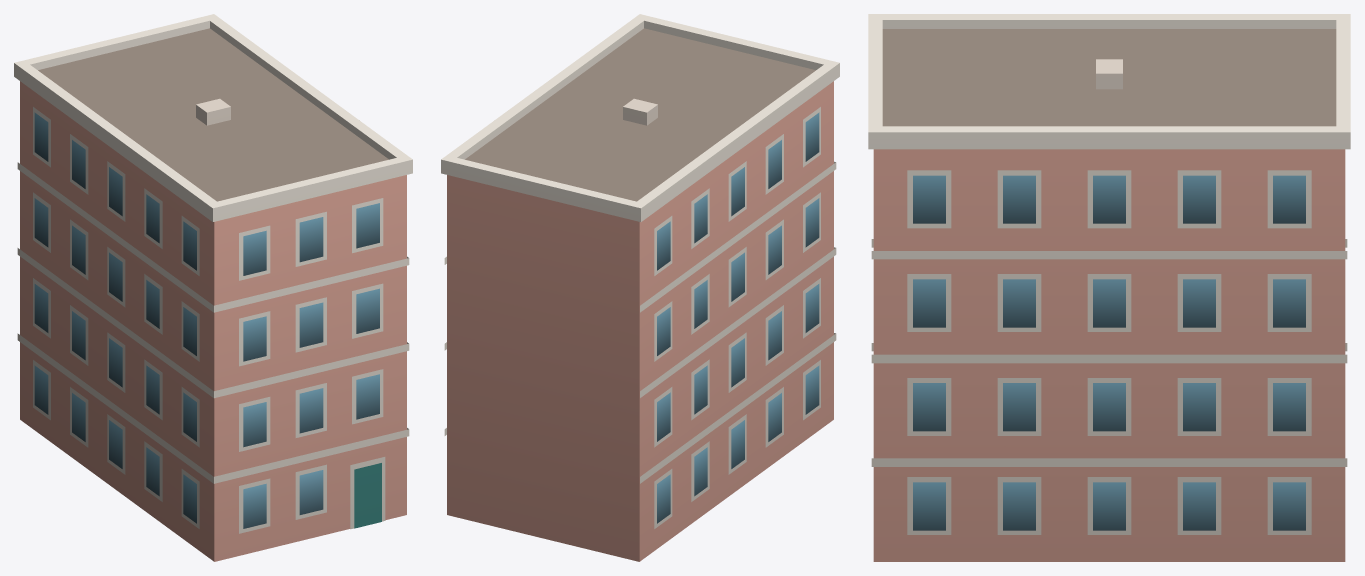
The model's file is boylston_s11_far.glb.
3 views of the same model, side by side, from view 1: azimuth 30°, elevation 25°; view 2: azimuth 150°, elevation 25°; view 3: azimuth 270°, elevation 25° (orthographic). The views are drawn at different scales.
Visible parts, largest first — view 1: boylston_s11_far; view 2: boylston_s11_far; view 3: boylston_s11_far.
Boxes of the visible parts, x1,y1,x2,y2 form: boylston_s11_far: [14, 14, 412, 561]; boylston_s11_far: [441, 14, 839, 561]; boylston_s11_far: [868, 14, 1350, 561].
Bounding box in the file's own units: 8.32 × 14.37 × 14.32.
1 material, 1 textured.
